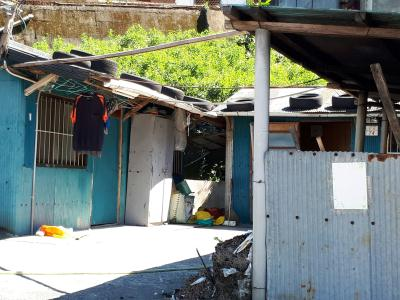tire: (118, 70, 160, 93), (287, 92, 324, 110), (90, 57, 120, 75), (331, 92, 359, 110), (227, 95, 255, 111), (160, 85, 185, 100)
